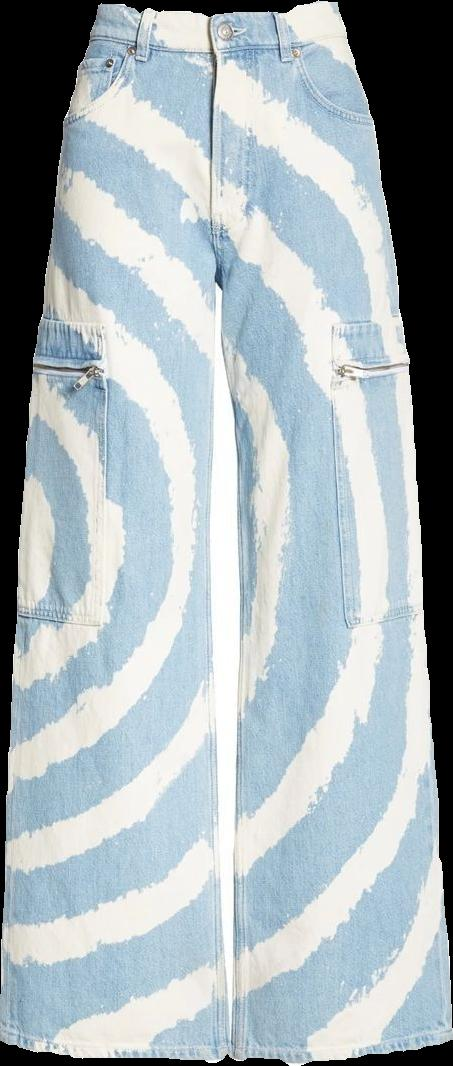Hemline: (227, 1032, 452, 1064), (0, 1032, 232, 1063)
Pantleg: (209, 2, 451, 1063), (0, 4, 229, 1062)
Waistline: (85, 27, 349, 54), (92, 0, 342, 26)
